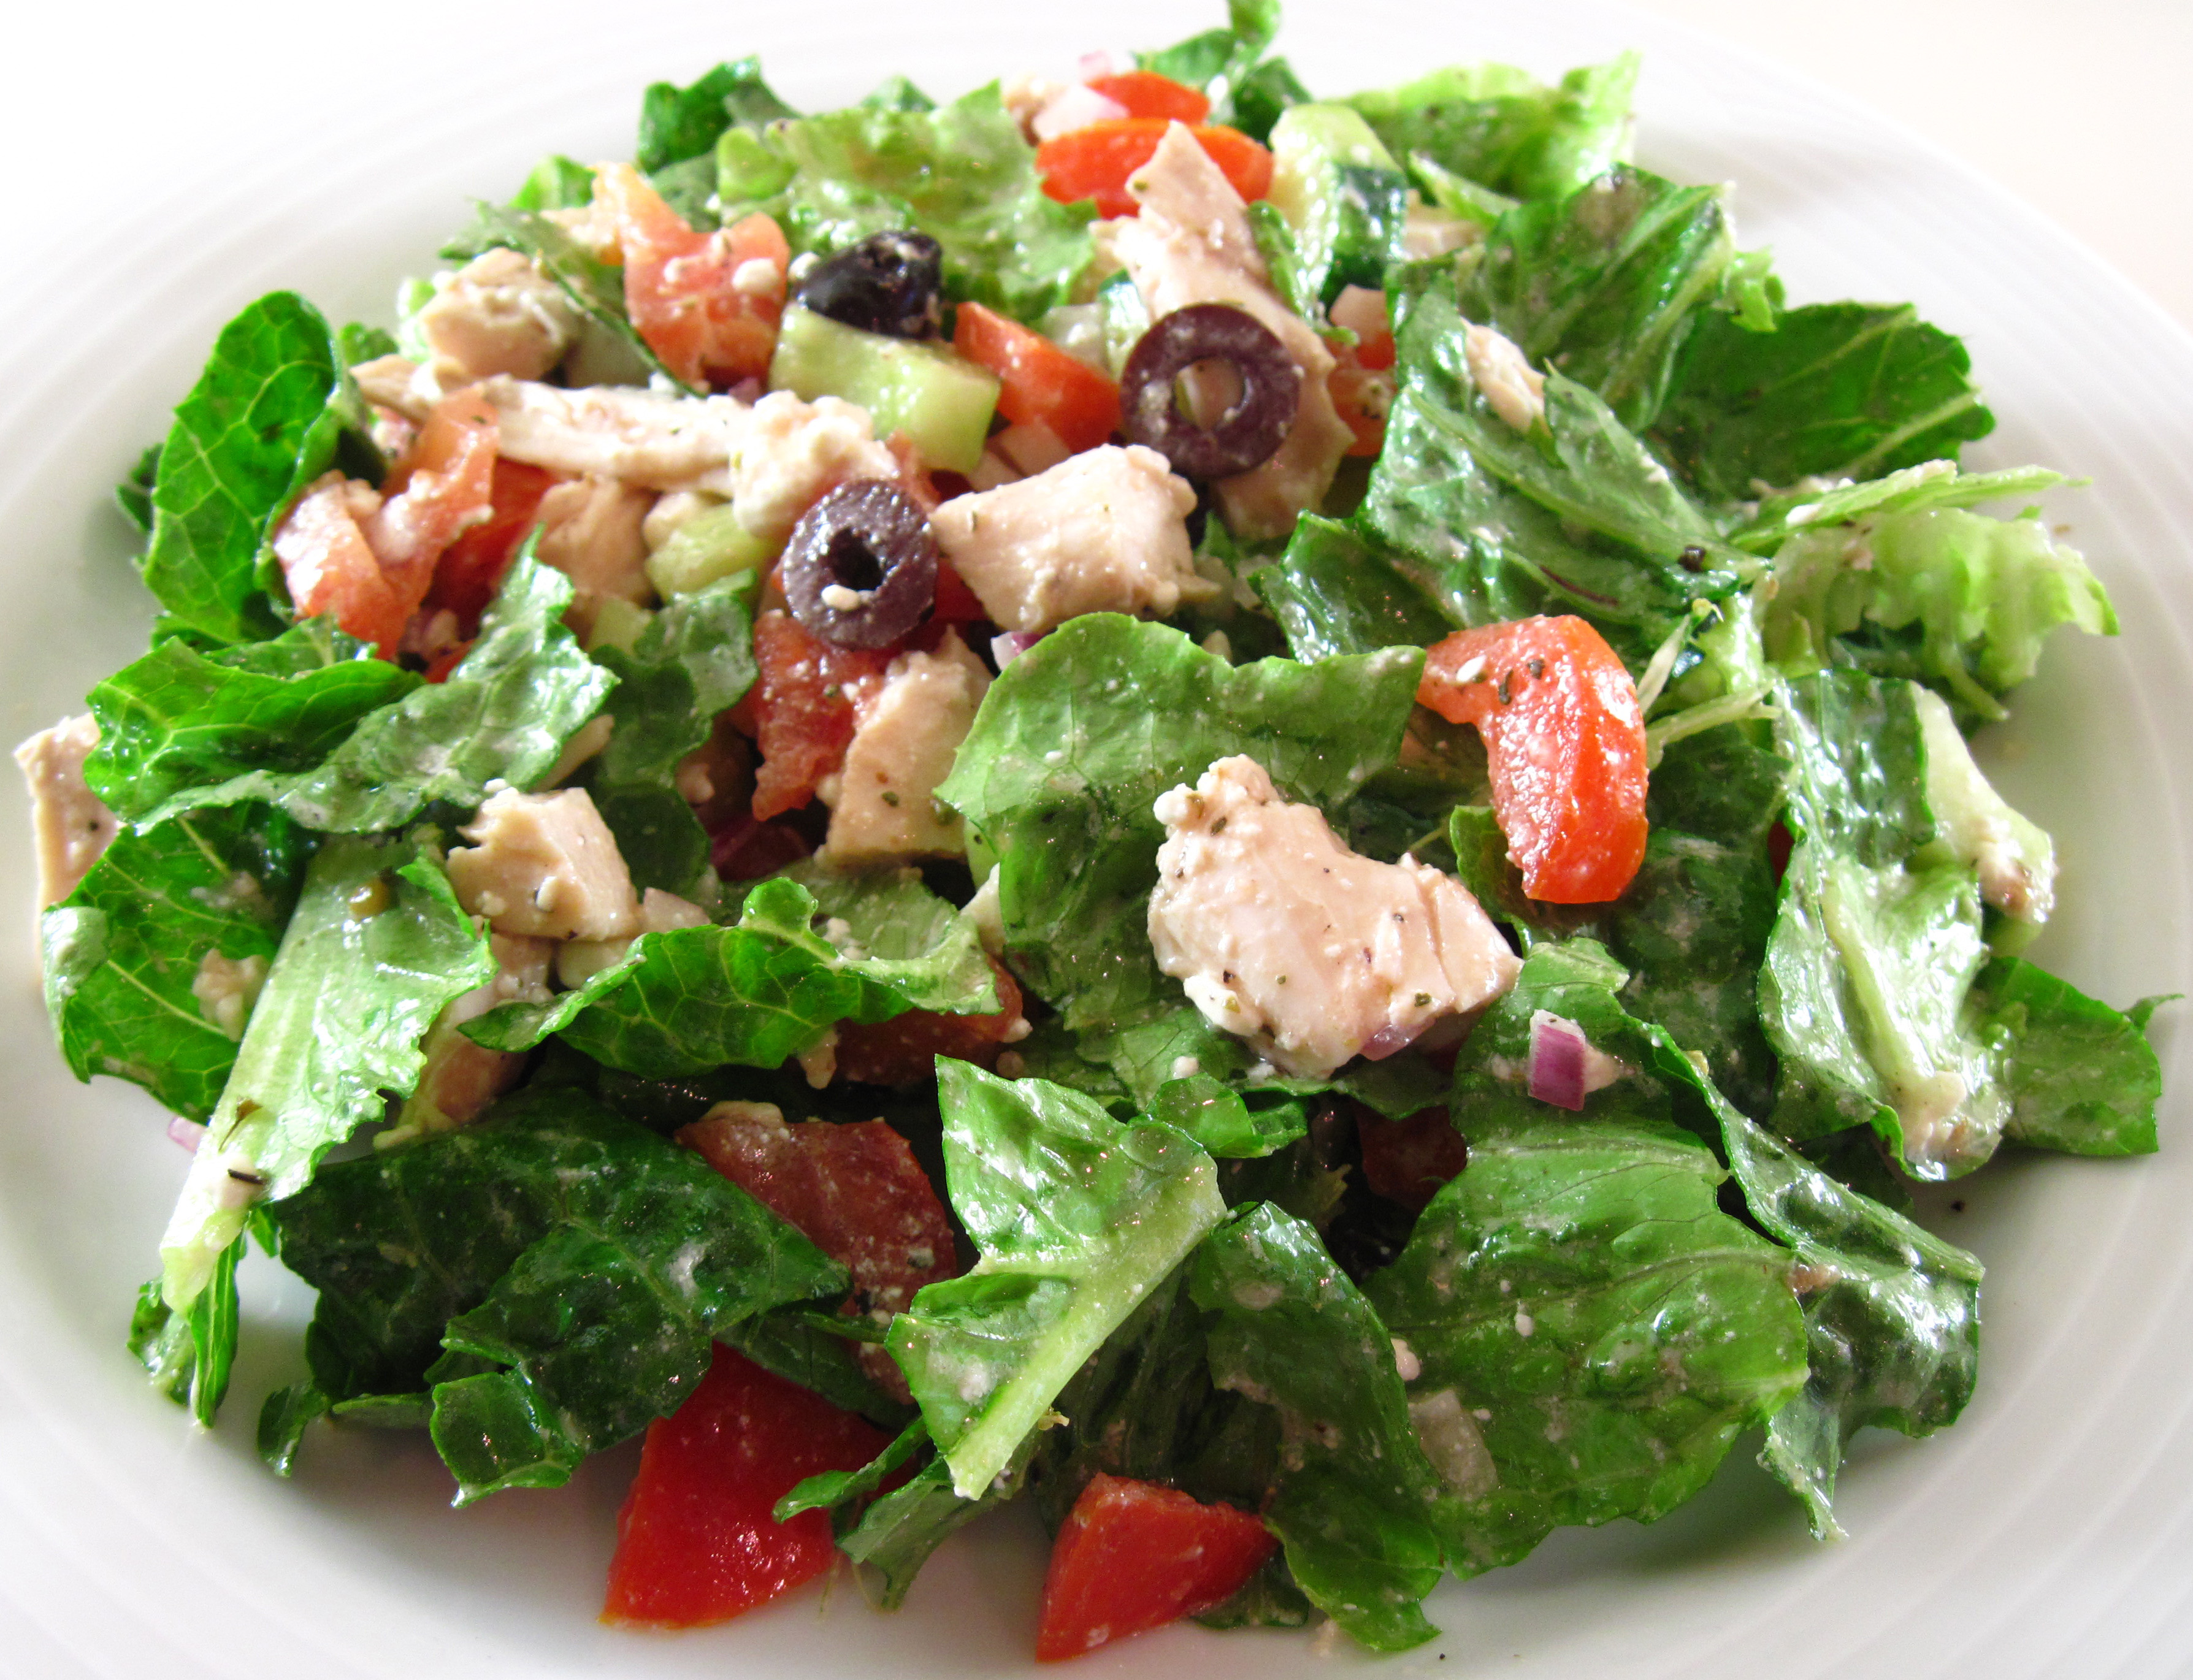chopped lettuce: (1344, 330, 2048, 1523), (101, 524, 575, 1378)
